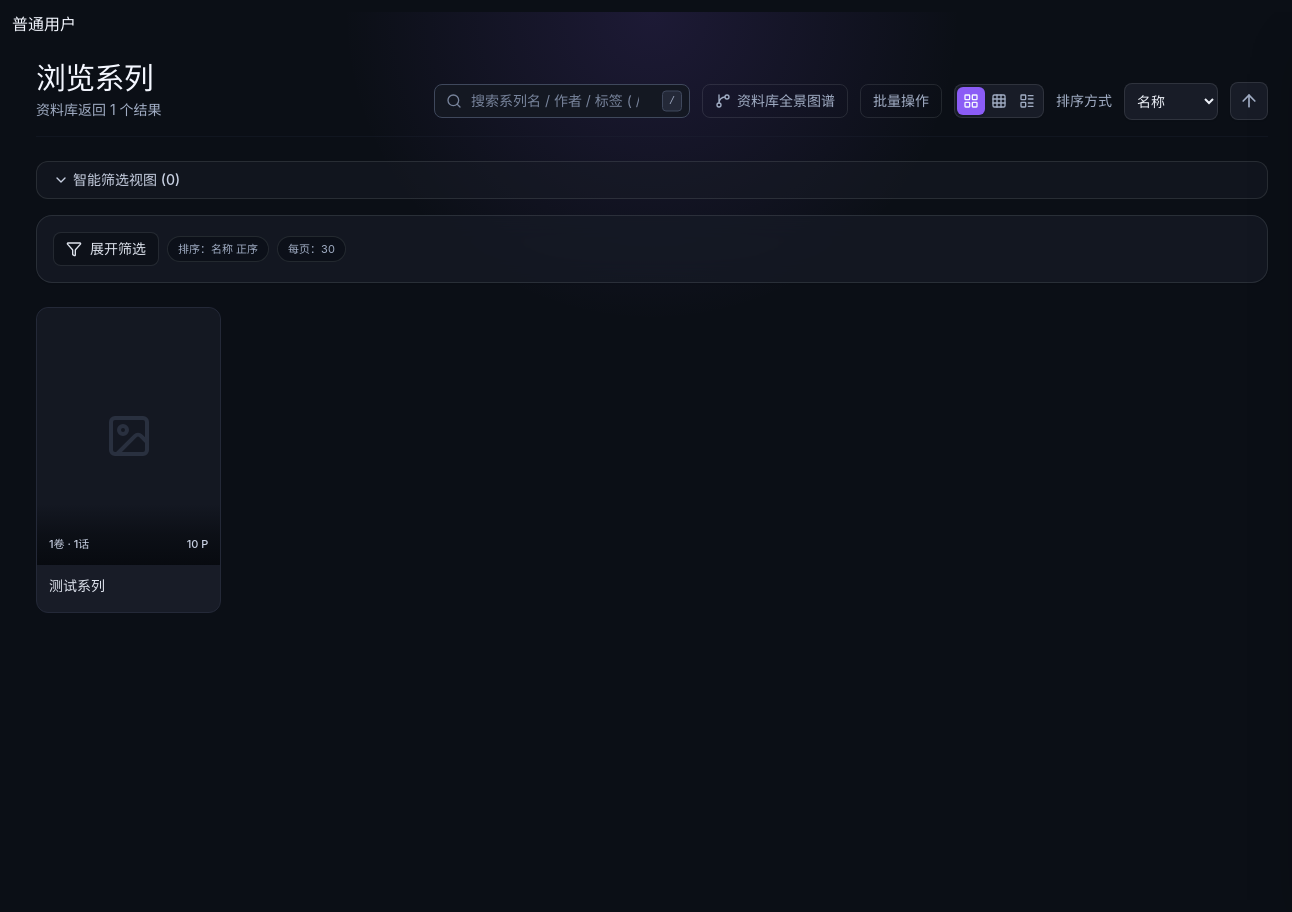
Scenario: 资料库页的管理员动作 › 普通用户的批量操作栏只剩标记已读/未读
Check: the text "普通用户" is shown, box [12,14,76,34]
Click the button "批量操作" at point(901, 101), box [860,84,942,118]
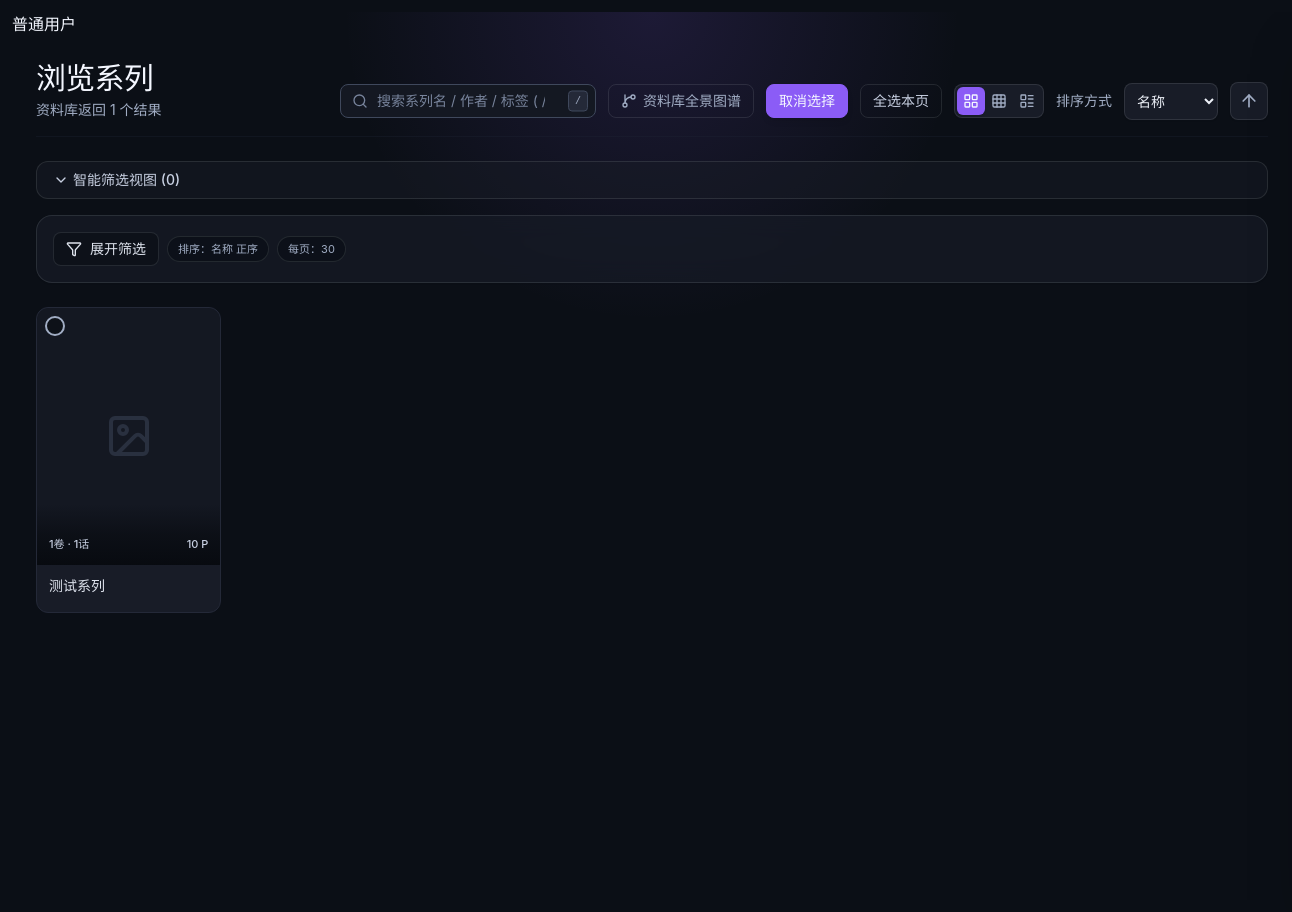
Click the button "全选本页" at point(901, 101), box [860,84,942,118]
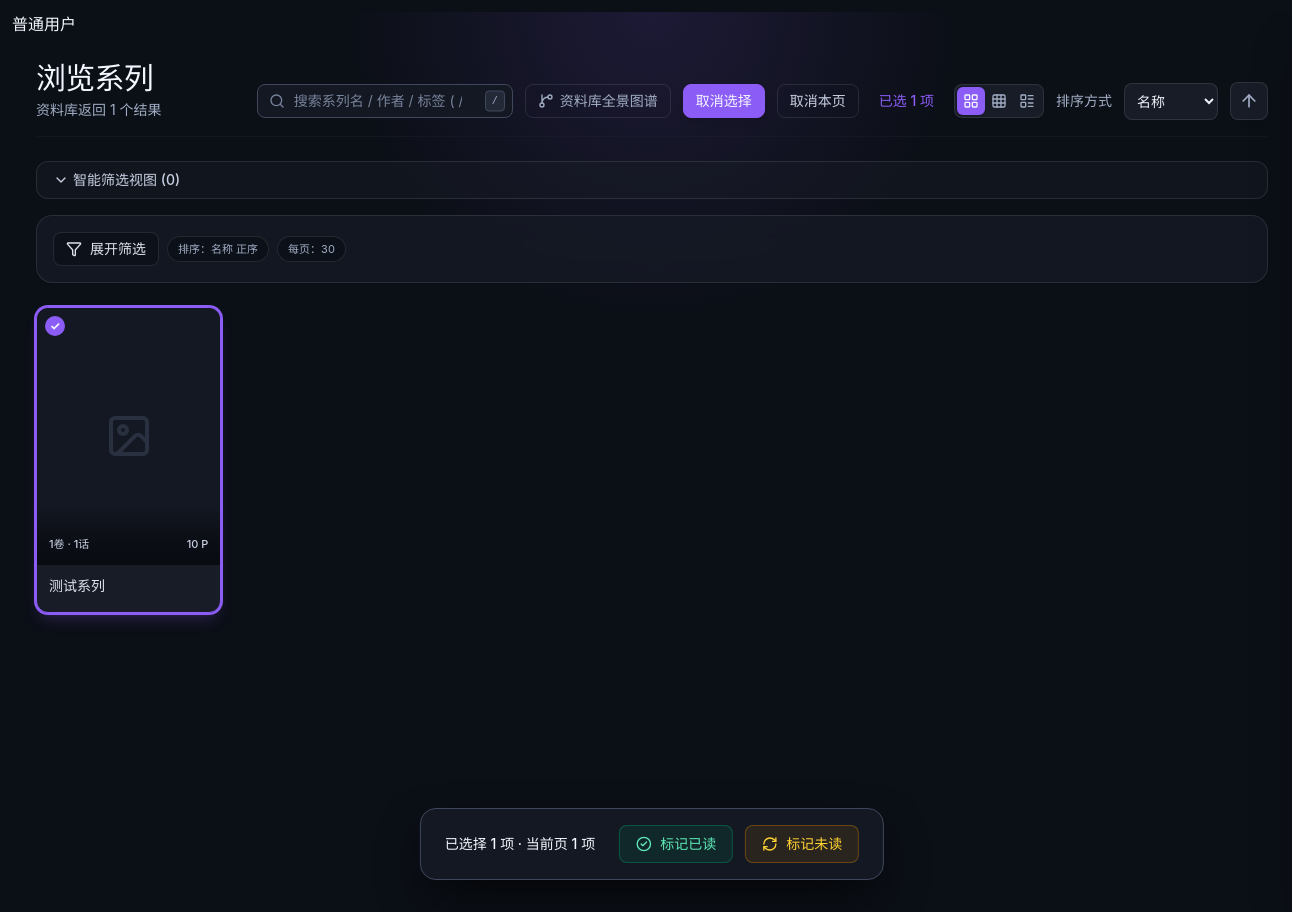
Check: the button "标记已读" is shown, box [619,825,733,863]
Check: the button "标记未读" is shown, box [745,825,859,863]
